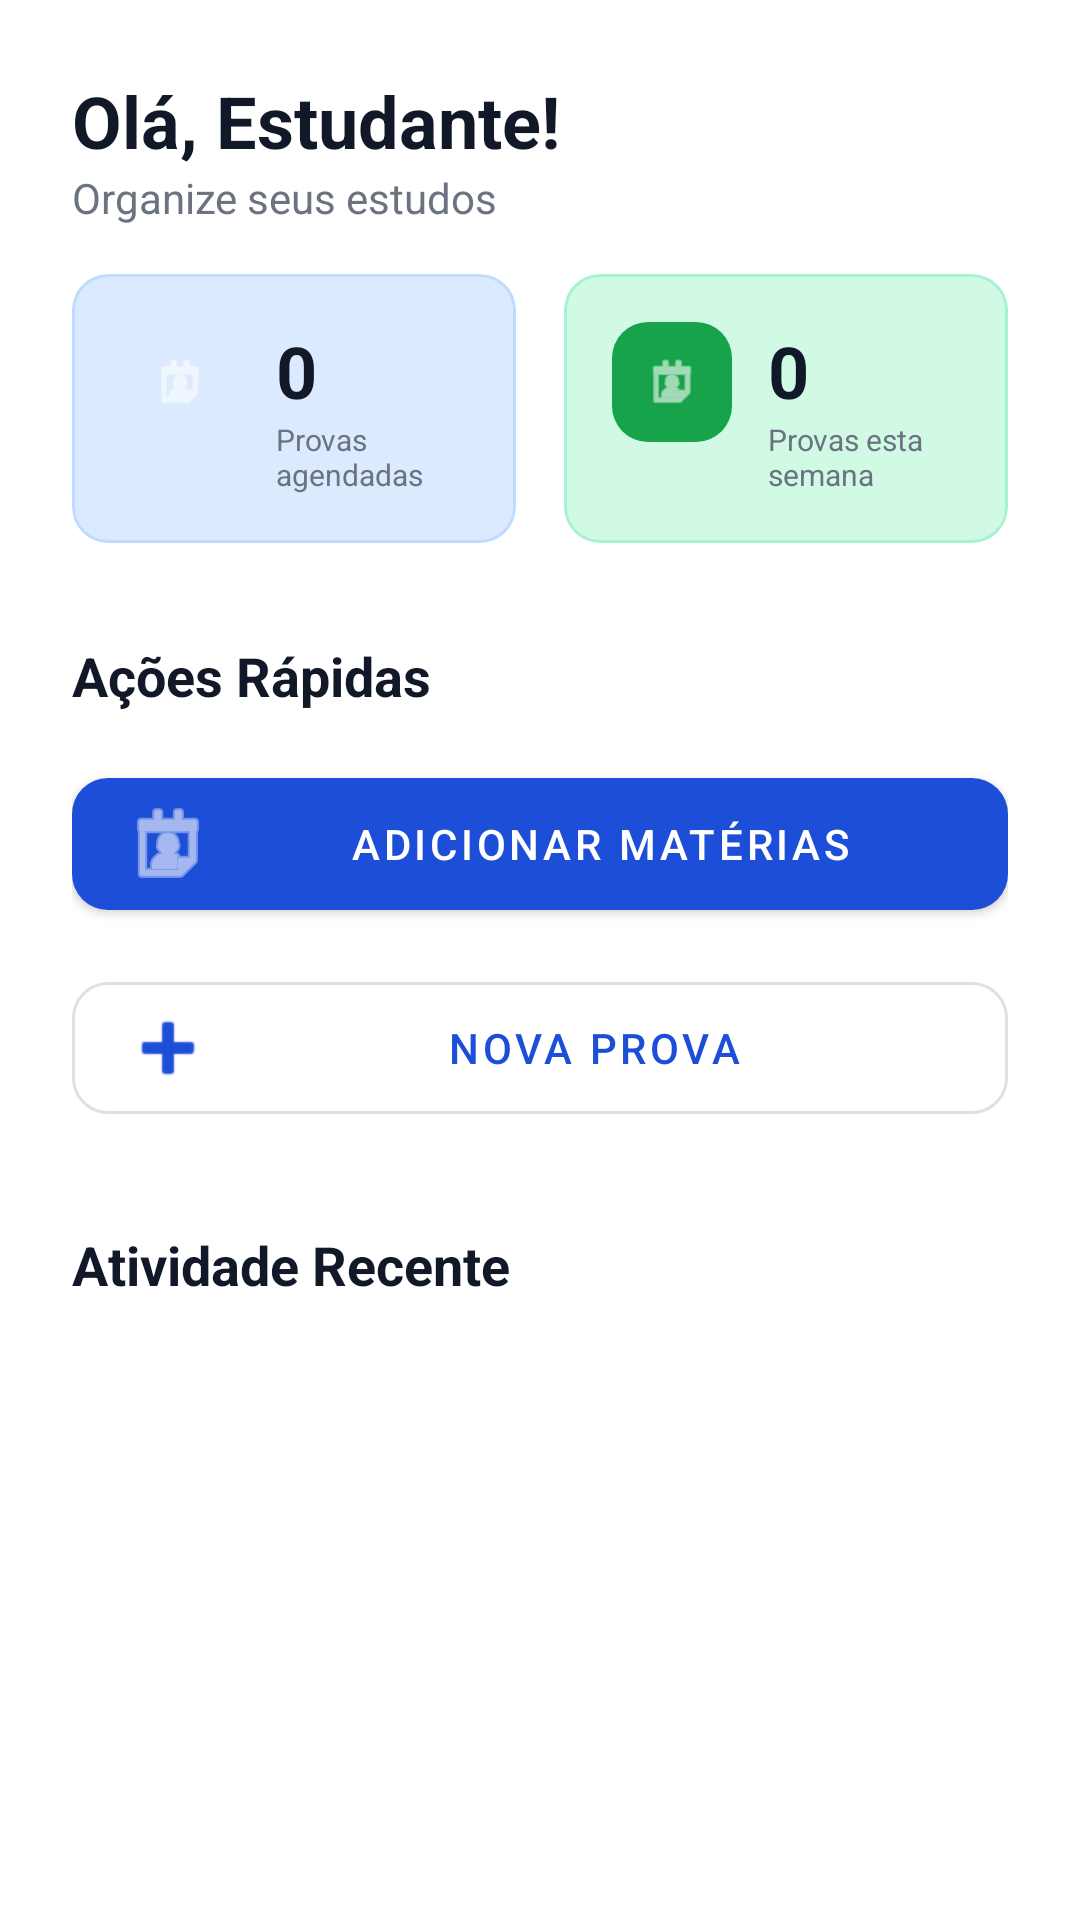

Icon click points for this 1080px x 1920px phone screenshot, format (x,y):
calendar: (672,381)
